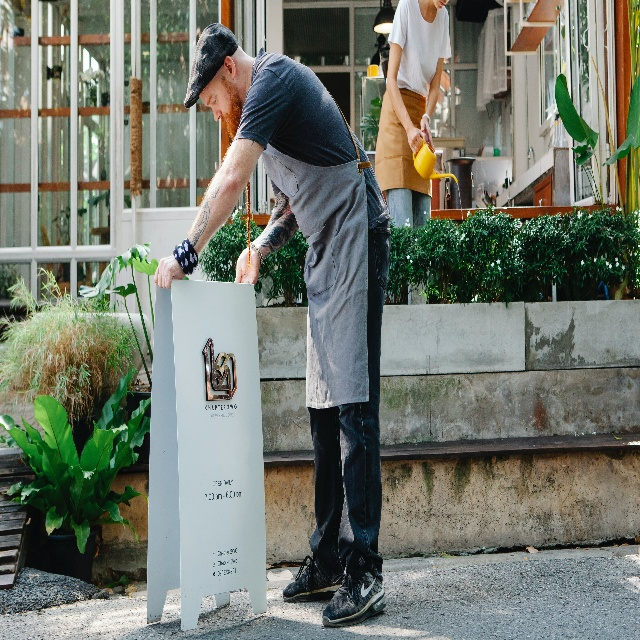Sin_guantes: (154, 254, 185, 289), (234, 245, 261, 285), (407, 126, 426, 155), (420, 117, 435, 153)
